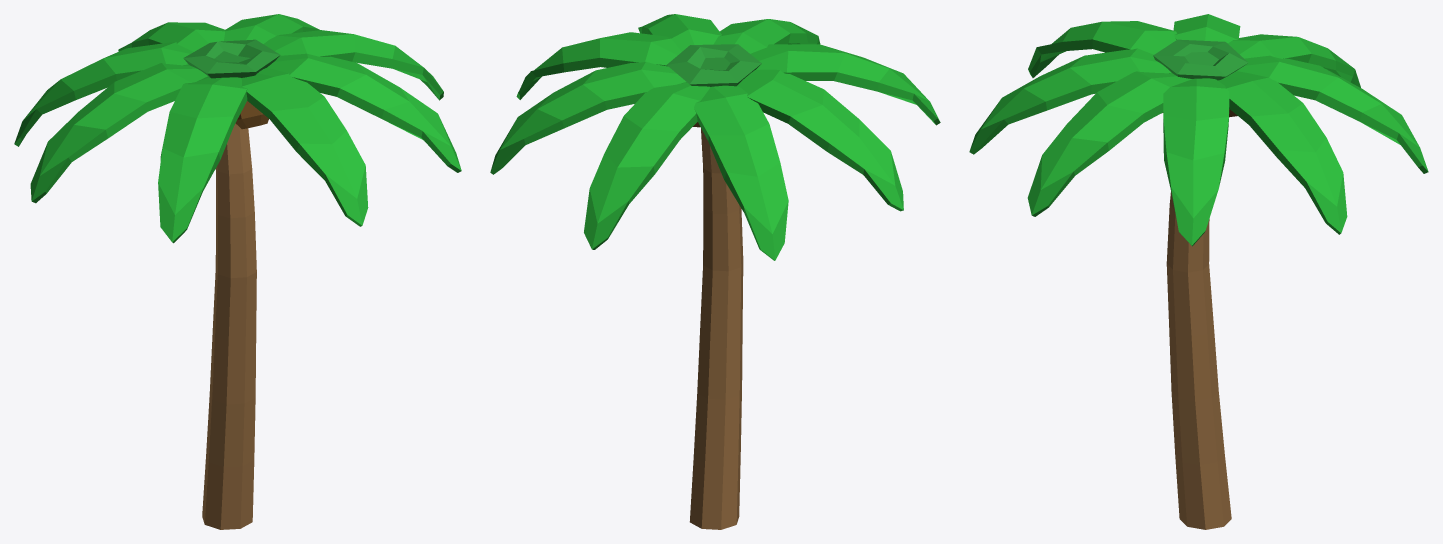
The model's file is palmtree2.fbx.
The picture shows the model from 3 angles, left to right: view 1: azimuth 30°, elevation 25°; view 2: azimuth 150°, elevation 25°; view 3: azimuth 270°, elevation 25°; orthographic projection. The views are drawn at different scales.
Visible parts, largest first — view 1: Cylinder, Cube.003, Cube.006, Cube.004, Cube.007, Cube, Cube.005, Cylinder.003, Cube.001, Cube.002, Cylinder.002; view 2: Cylinder, Cube, Cube.001, Cube.004, Cube.002, Cube.003, Cube.005, Cylinder.003, Cube.006, Cube.007; view 3: Cylinder, Cube.005, Cube.002, Cube.007, Cube.006, Cube.001, Cube.003, Cylinder.003, Cube, Cube.004.
Part boxes in pixels (x1,y1,x2,y2): Cylinder: (202, 123, 256, 529); Cube.003: (158, 77, 247, 243); Cube.006: (241, 68, 368, 226); Cube.004: (30, 63, 208, 203); Cube.007: (267, 53, 461, 172); Cube: (14, 42, 193, 146); Cube.005: (263, 30, 443, 100); Cylinder.003: (183, 39, 280, 78); Cube.001: (118, 22, 225, 51); Cube.002: (224, 14, 319, 43); Cylinder.002: (235, 101, 268, 129); Cylinder: (689, 128, 743, 529); Cube: (694, 85, 788, 260); Cube.001: (584, 82, 709, 249); Cube.004: (737, 69, 903, 211); Cube.002: (490, 62, 686, 174); Cube.003: (750, 44, 940, 125); Cube.005: (516, 32, 681, 99); Cylinder.003: (667, 44, 761, 86); Cube.006: (713, 19, 820, 53); Cube.007: (638, 14, 721, 51); Cylinder: (1166, 191, 1231, 529); Cube.005: (1163, 78, 1229, 246); Cube.002: (1218, 71, 1347, 234); Cube.007: (1027, 71, 1191, 216); Cube.006: (969, 48, 1171, 154); Cube.001: (1237, 55, 1428, 173); Cube.003: (1028, 21, 1176, 77); Cylinder.003: (1153, 39, 1248, 80); Cube: (1228, 34, 1360, 87); Cube.004: (1173, 14, 1240, 43).
Bounding box in the file's own units: 916 × 1018 × 905.
